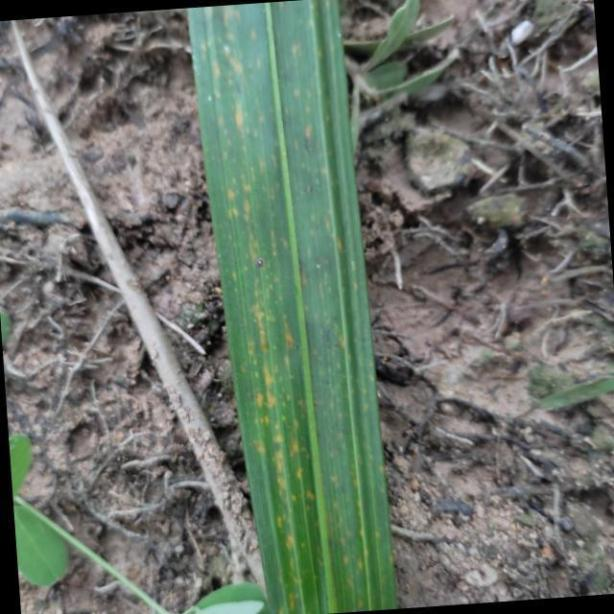Kalium: (190, 0, 395, 614)
